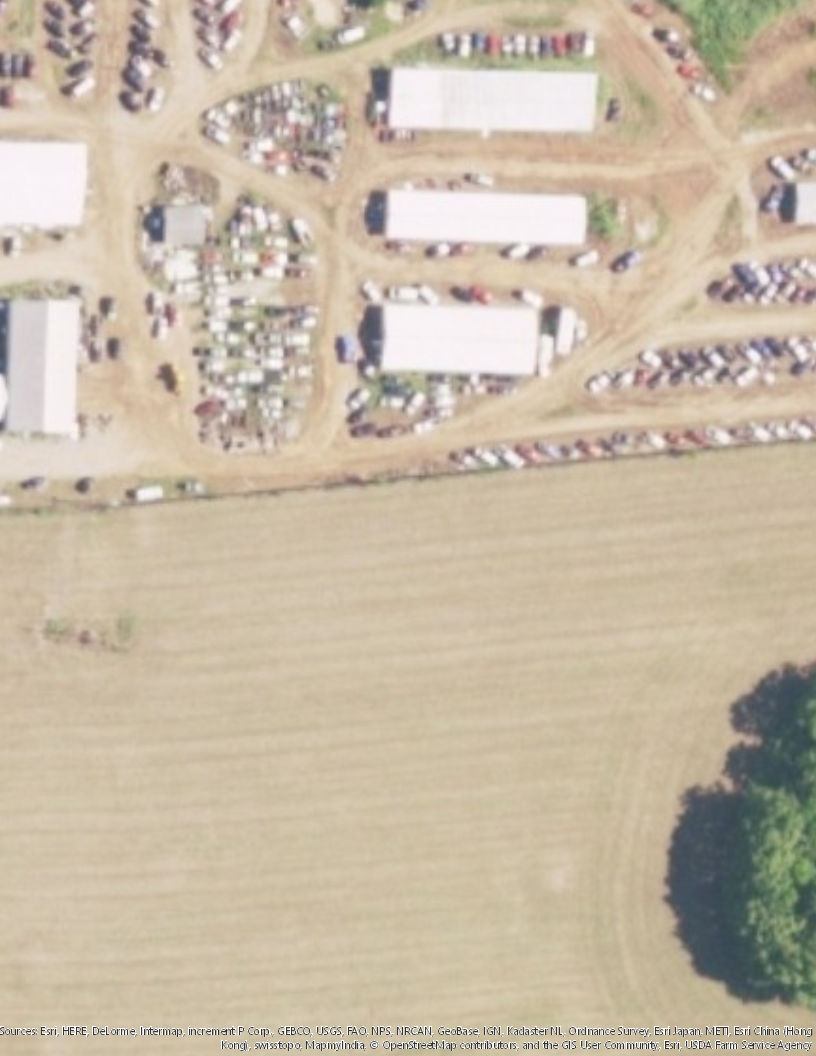cafo: (365, 52, 614, 138), (365, 176, 606, 259), (365, 290, 561, 376), (1, 294, 99, 444), (1, 134, 103, 241)
